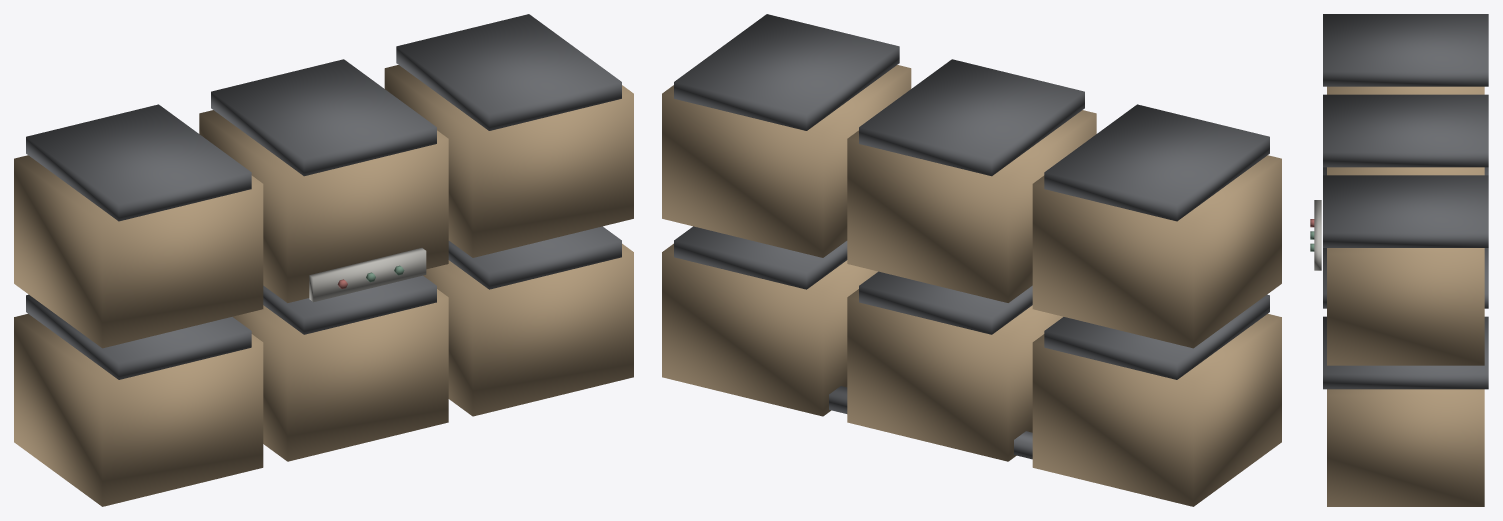
Rendered from market_produce_rack__reinforced.glb.
3 renders of one model, left to right at view 1: azimuth 30°, elevation 25°; view 2: azimuth 150°, elevation 25°; view 3: azimuth 270°, elevation 25°, orthographic. The views are drawn at different scales.
Visible parts, largest first — view 1: world; view 2: world; view 3: world.
Part boxes in pixels (x1,y1,x2,y2): world: (14,14,633,506); world: (662,14,1281,506); world: (1310,14,1488,506).
Size of the model in its own units: 1.36 by 0.7344 by 0.4439.
